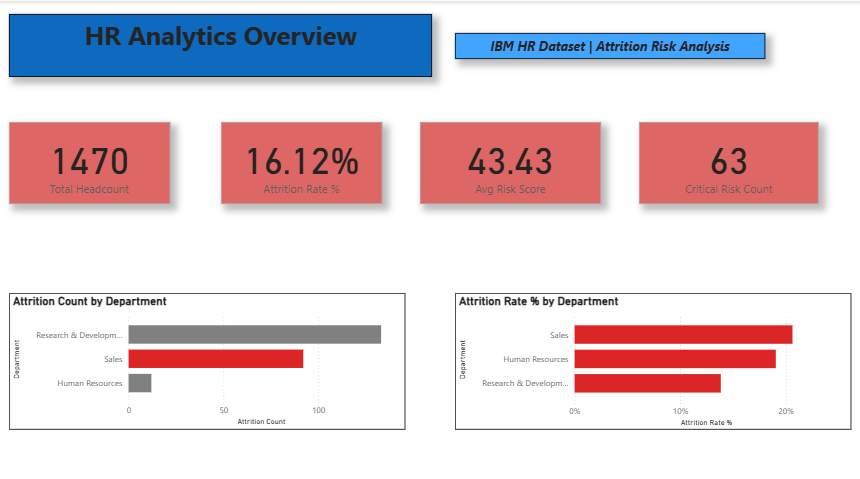

Layout of this report page (visuals, bound fields, positions):
{"tool":"powerbi","page":{"name":"overview","canvas":[1280,720],"ordinal":0},"visuals":[{"type":"card","fields":{"Values":["hr_attrition_cleaned.Total Headcount"]},"box":[0,177.1,235.6,120],"z":0},{"type":"card","fields":{"Values":["hr_attrition_cleaned.Avg Risk Score"]},"box":[604.4,177.1,264.9,120],"z":1000},{"type":"card","fields":{"Values":["hr_attrition_cleaned.Critical Risk Count"]},"box":[938,177.1,263.4,120],"z":2000},{"type":"barChart","fields":{"Category":["hr_attrition_cleaned.Department"],"Y":["hr_attrition_cleaned.Attrition Count"]},"box":[16.1,427.3,580,200],"z":3000},{"type":"barChart","fields":{"Category":["hr_attrition_cleaned.Department"],"Y":["hr_attrition_cleaned.Attrition Rate %"]},"box":[668.8,427.3,579.5,200.5],"z":4000},{"type":"textbox","box":[0,19,619,92.2],"z":5000},{"type":"textbox","box":[668.8,46.8,453.7,38],"z":6000},{"type":"card","fields":{"Values":["hr_attrition_cleaned.Attrition Rate %"]},"box":[316.1,177.1,235.6,120],"z":7000}]}

Visuals, with their boxes in screenshot pixels (x1, y1, x2, y2), scaled from the page's 1280x720 canvas onto the 860x479 screenshot:
card - hr_attrition_cleaned.Total Headcount: 0, 118, 158, 198
card - hr_attrition_cleaned.Avg Risk Score: 406, 118, 584, 198
card - hr_attrition_cleaned.Critical Risk Count: 630, 118, 807, 198
barChart - hr_attrition_cleaned.Department x hr_attrition_cleaned.Attrition Count: 11, 284, 401, 417
barChart - hr_attrition_cleaned.Department x hr_attrition_cleaned.Attrition Rate %: 449, 284, 839, 418
textbox: 0, 13, 416, 74
textbox: 449, 31, 754, 56
card - hr_attrition_cleaned.Attrition Rate %: 212, 118, 371, 198
